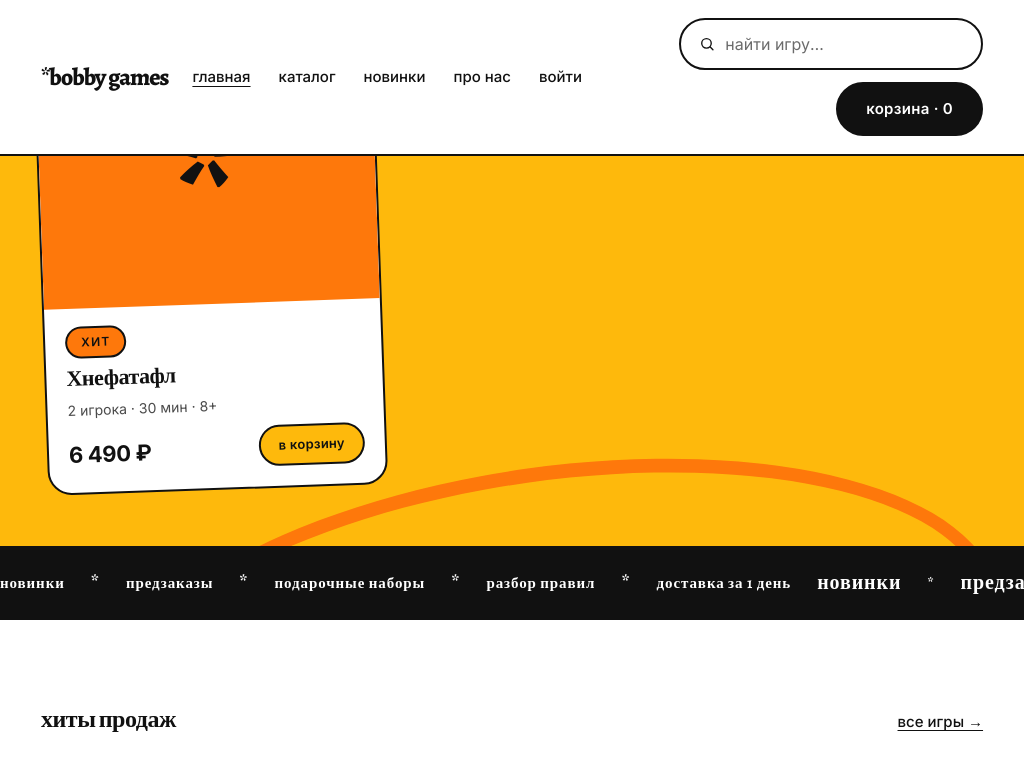
Test: корзина › не даёт гостю добавить игру
This screenshot has width=1024, height=768.
(page scrolled)
Click the button "в корзину" at [312, 444], box [258,422,366,467]
(page scrolled)
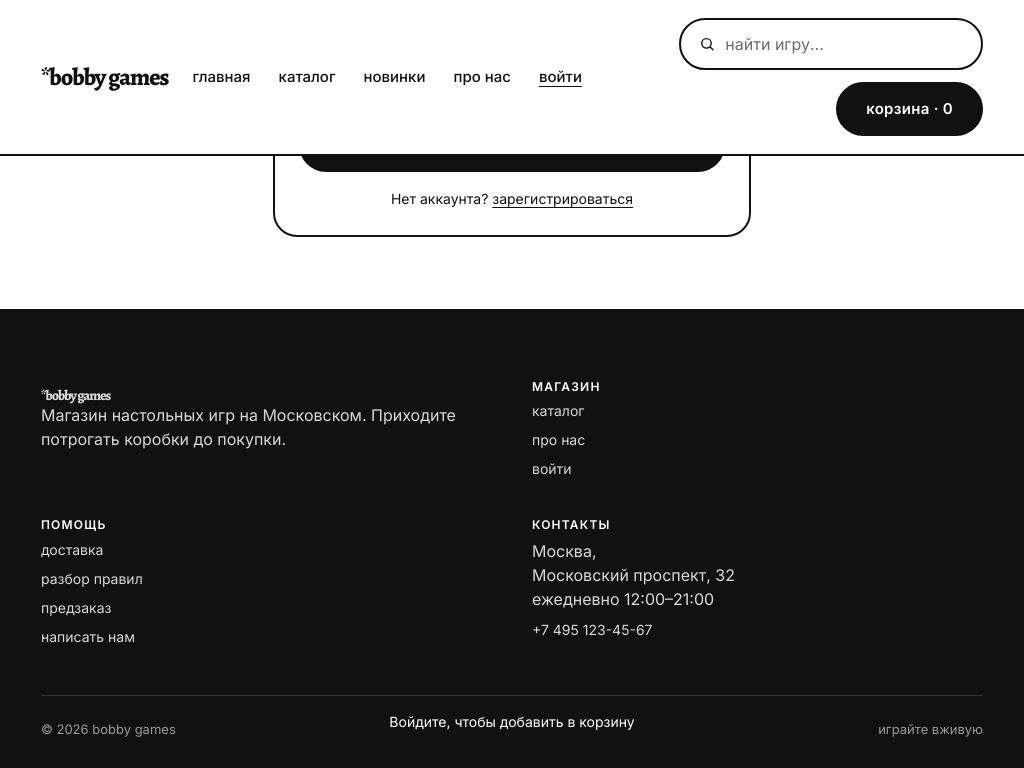
Check: the button "корзина · 0" is shown, box [836,82,983,136]
Check: the text "Войдите, чтобы добавить в корзину" is shown, box [371,699,653,744]
